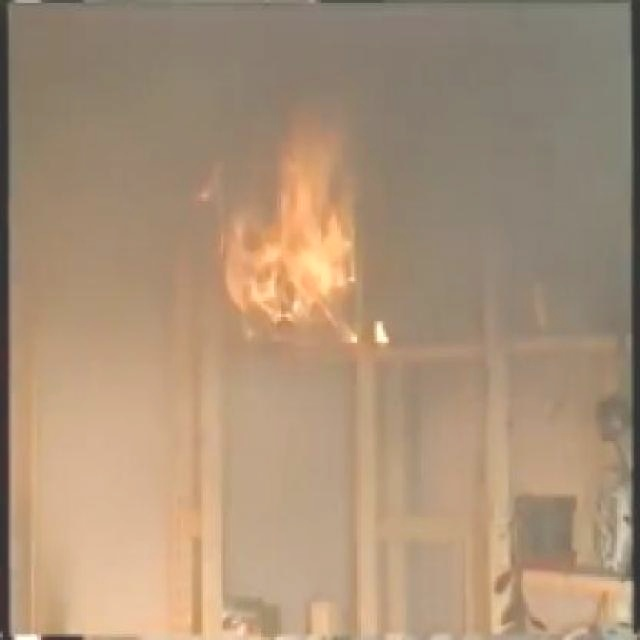fire: (200, 122, 390, 344)
